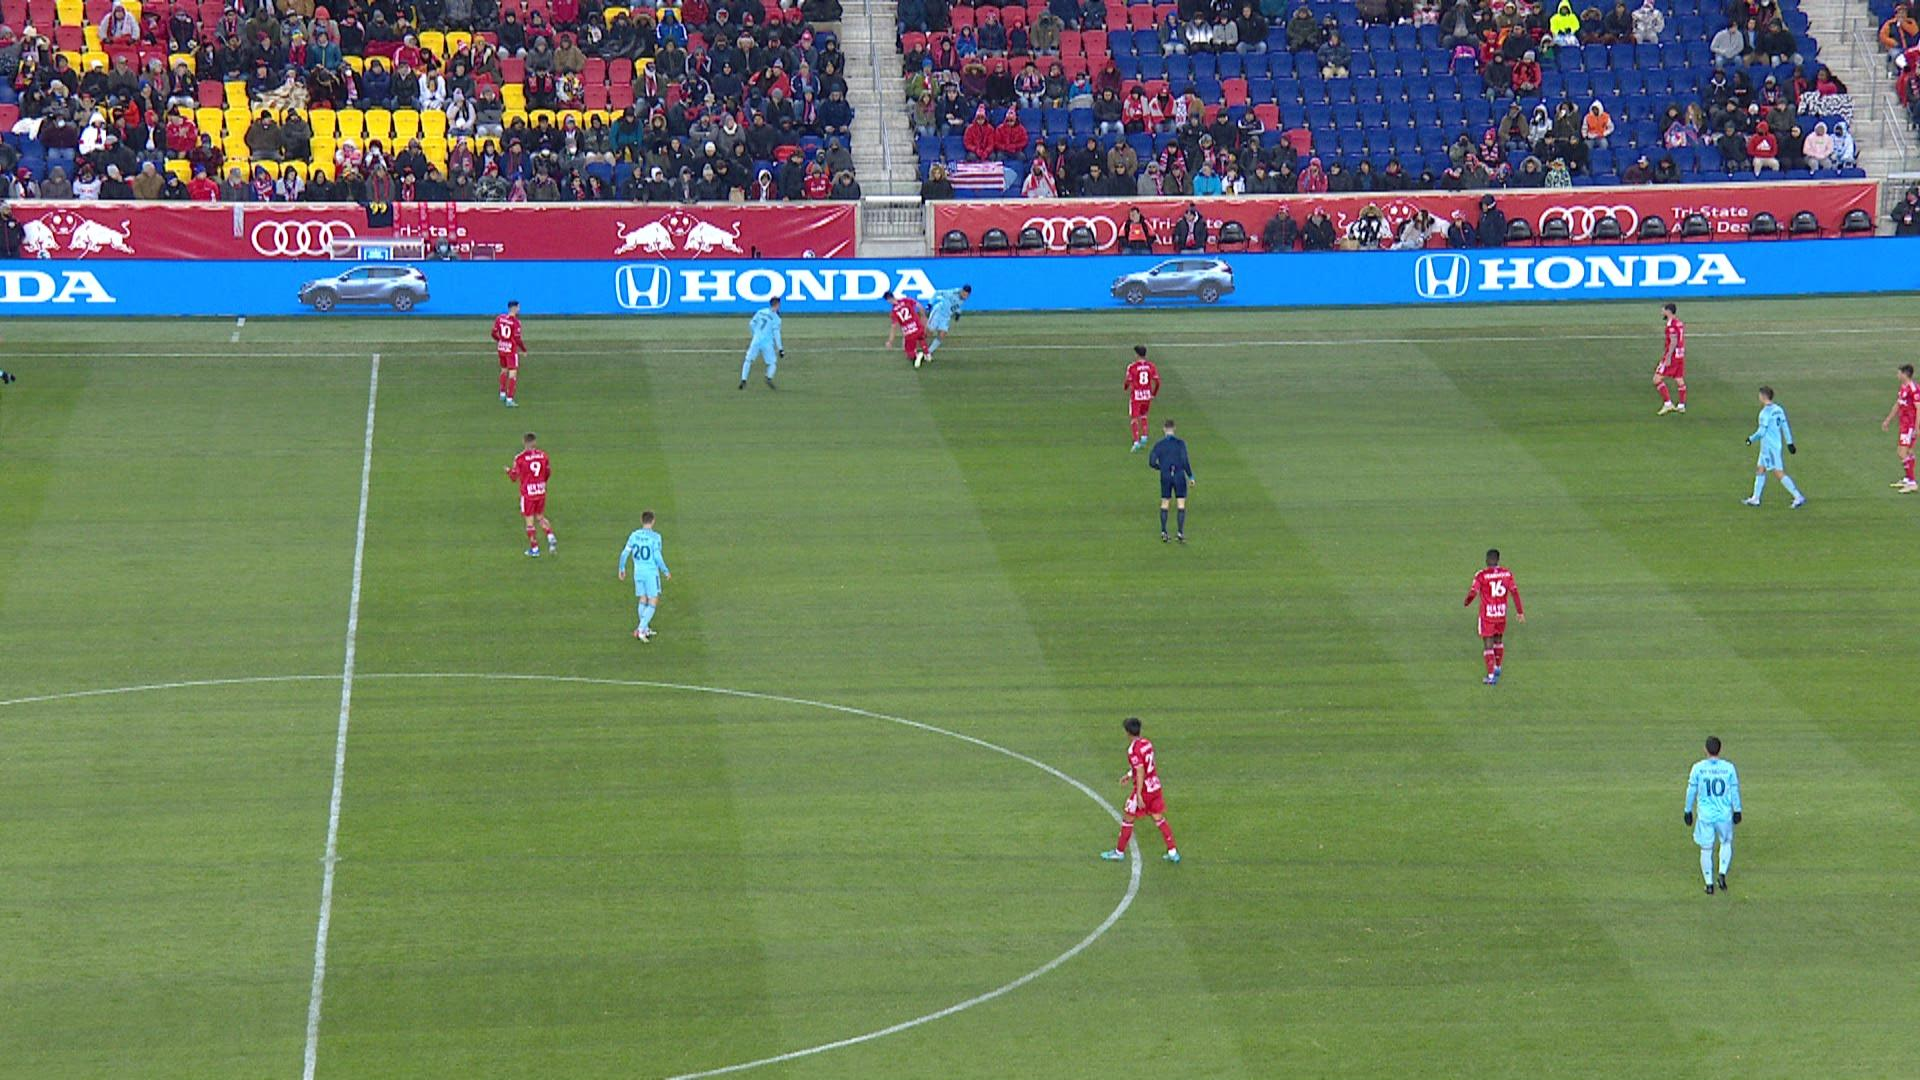football: (917, 351, 924, 356)
